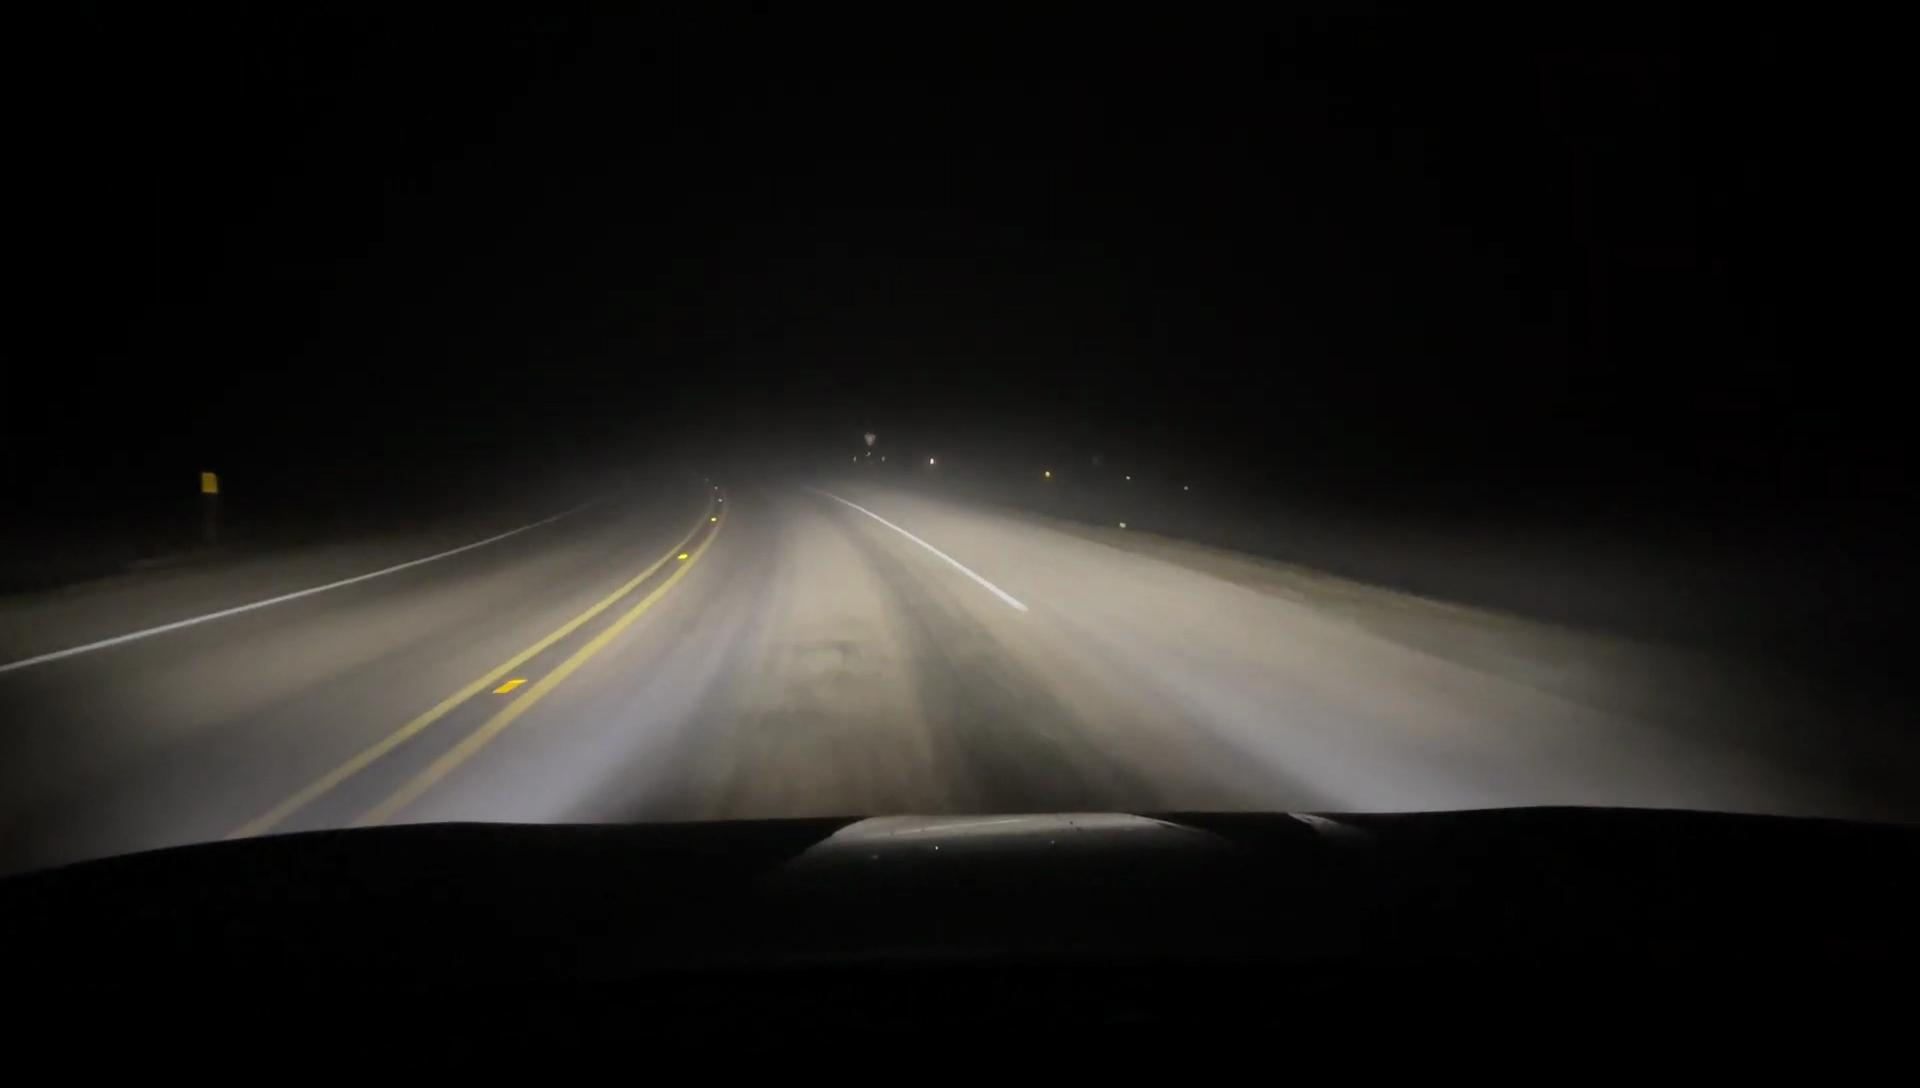road-lanes: (425, 488, 1287, 798)
